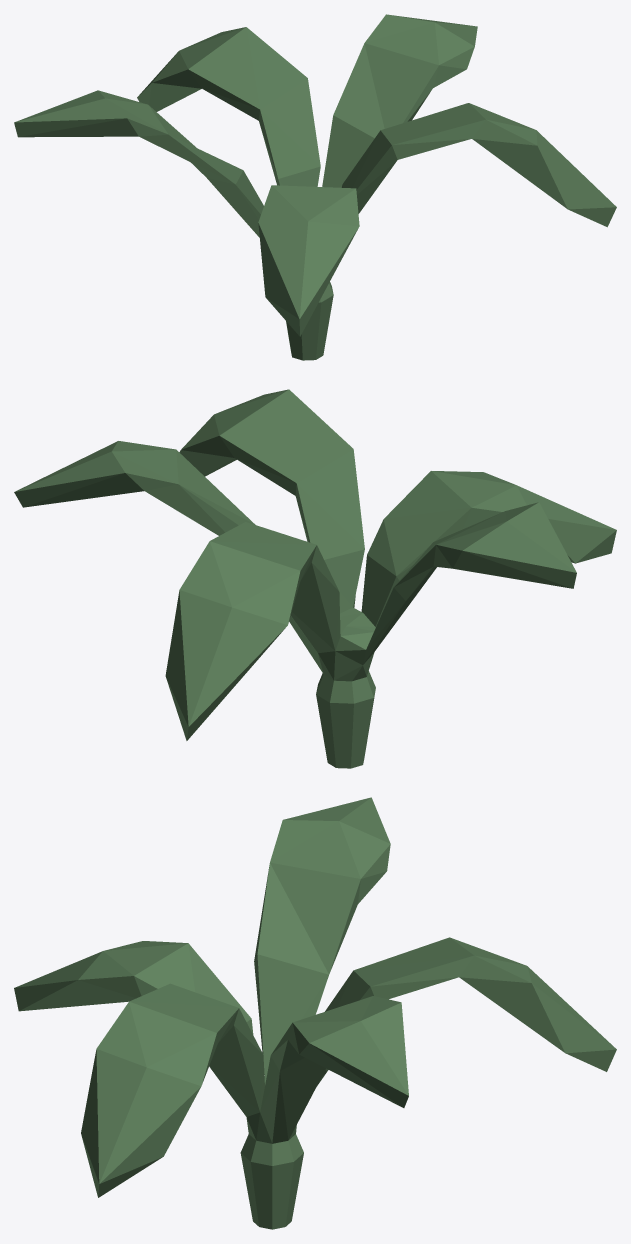
The model's file is SM_Env_Plant_03.fbx.
3 views of the same model, one above another, from view 1: azimuth 30°, elevation 25°; view 2: azimuth 150°, elevation 25°; view 3: azimuth 270°, elevation 25° (orthographic). The views are drawn at different scales.
Visible parts, largest first — view 1: SM_Env_Plant_03; view 2: SM_Env_Plant_03; view 3: SM_Env_Plant_03.
Part boxes in pixels (x1,y1,x2,y2): SM_Env_Plant_03: (14,14,616,360); SM_Env_Plant_03: (14,389,616,768); SM_Env_Plant_03: (14,797,616,1229).
Size of the model in its own units: 0.00707 by 0.00387 by 0.0069.
1 material, 1 textured.
